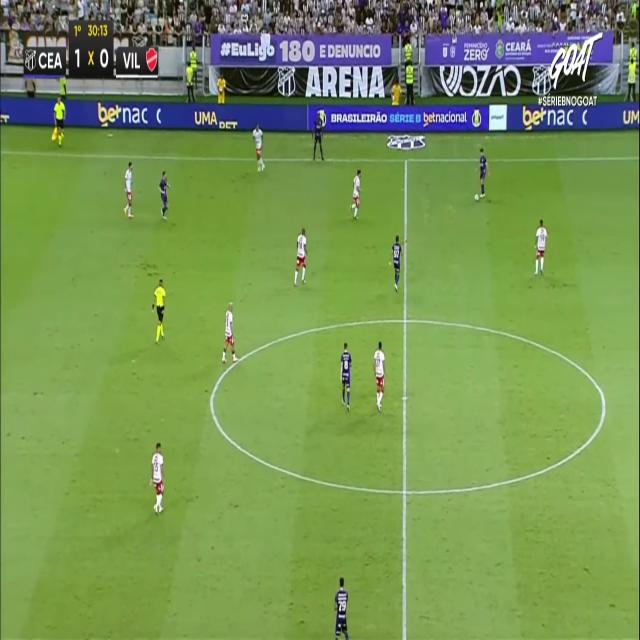ball: (471, 191, 486, 203)
player: (221, 301, 239, 363), (150, 442, 164, 515), (310, 108, 326, 168), (334, 576, 349, 639), (340, 342, 352, 412), (373, 341, 385, 411), (294, 228, 308, 286), (534, 219, 548, 275), (391, 234, 402, 292), (349, 168, 361, 219), (252, 123, 264, 172), (123, 161, 133, 218), (159, 170, 170, 220), (477, 147, 488, 197)
referee: (151, 277, 165, 344), (51, 94, 65, 146)
